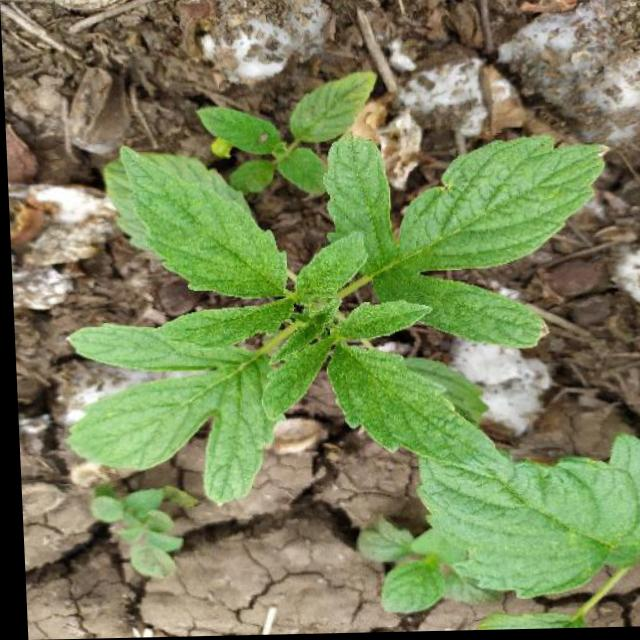crop: (29, 106, 640, 522)
